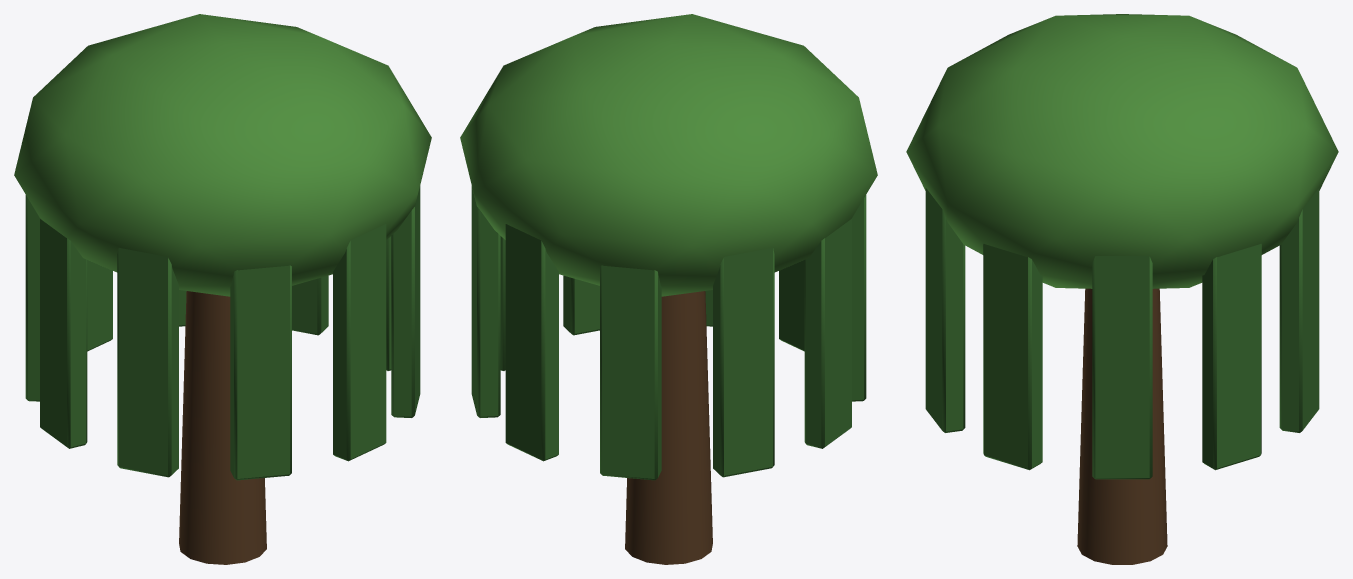
File: willow.glb
The picture shows the model from 3 angles, left to right: view 1: azimuth 30°, elevation 25°; view 2: azimuth 150°, elevation 25°; view 3: azimuth 270°, elevation 25°; orthographic projection.
Parts seen in each view (by area): view 1: tree; view 2: tree; view 3: tree.
Part boxes in pixels (box(x1,y1,x2,y2)): tree: box(14, 14, 431, 564); tree: box(460, 14, 877, 564); tree: box(906, 14, 1338, 564).
Bounding box in the file's own units: 1.37 × 1.87 × 1.44.
